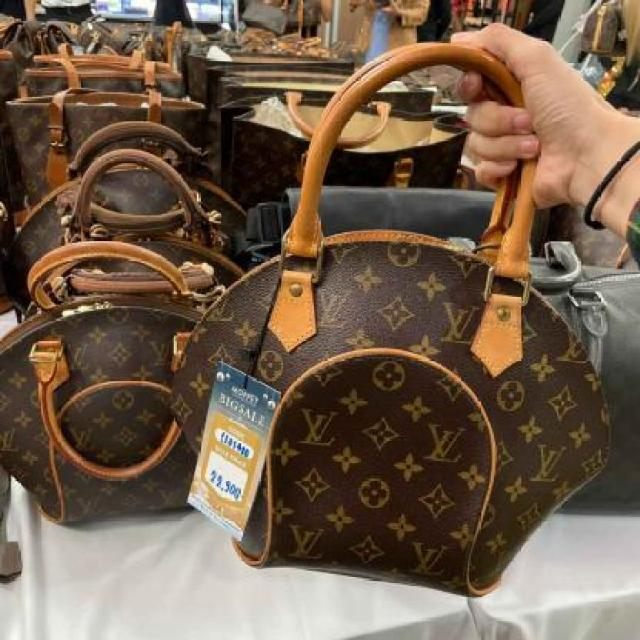Bag: (132, 0, 640, 608)
